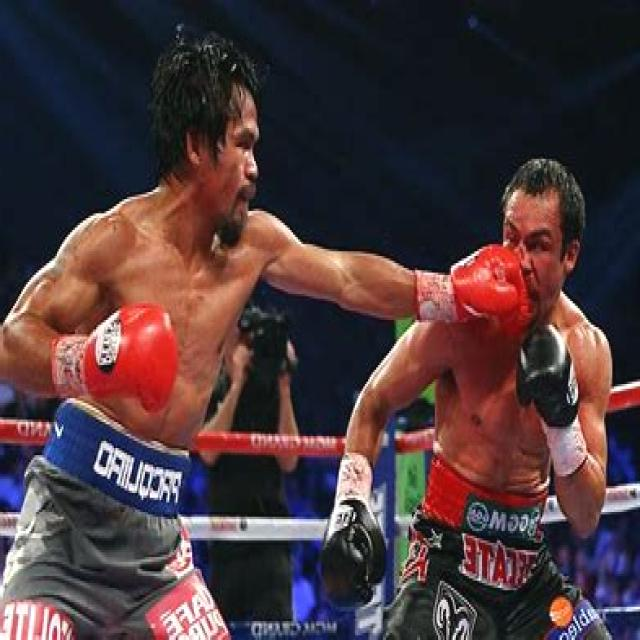fight: (9, 21, 614, 598)
